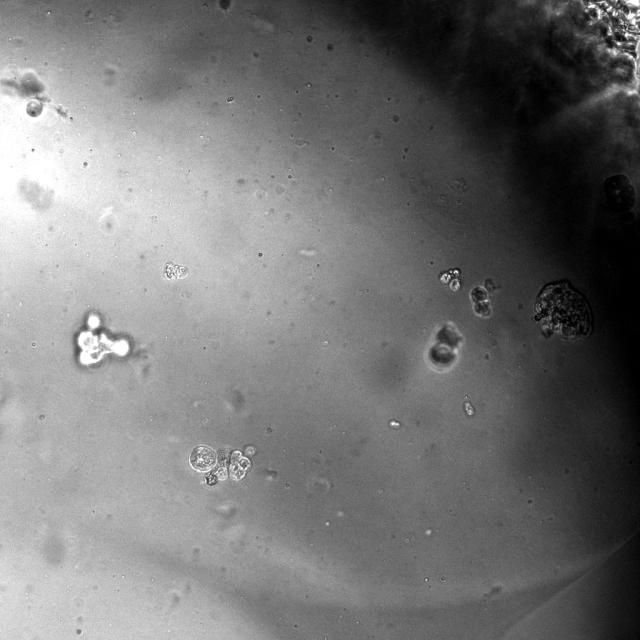organoid: (534, 281, 592, 341), (0, 67, 64, 118), (74, 313, 134, 366), (188, 445, 256, 485), (423, 321, 463, 373), (469, 278, 499, 317), (439, 268, 462, 292), (164, 262, 188, 280), (218, 0, 231, 11), (327, 42, 334, 53), (226, 95, 234, 103), (306, 34, 313, 43)
